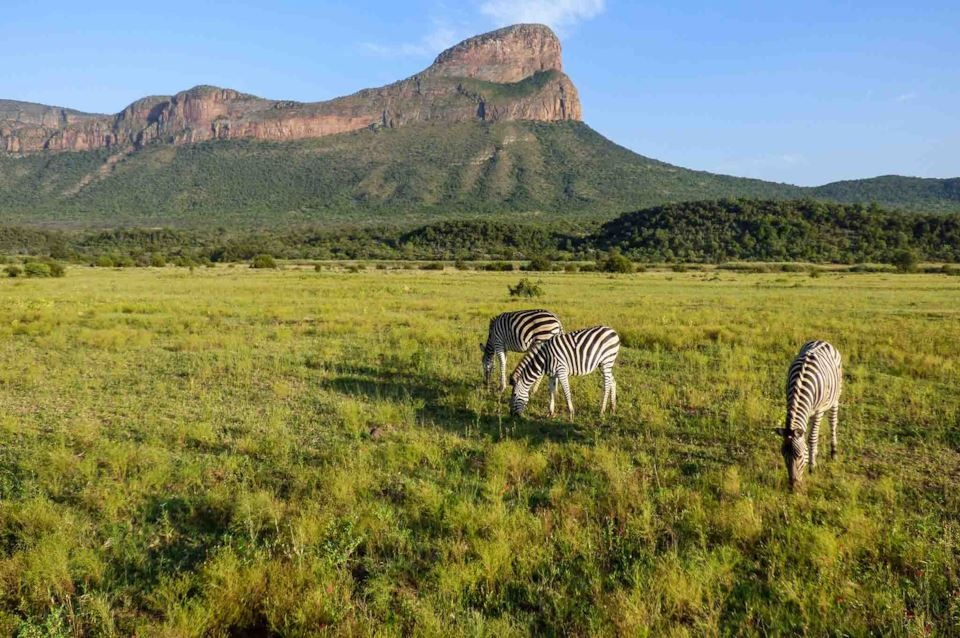zebra: (811, 412, 886, 565), (567, 371, 688, 465), (519, 352, 605, 443)
